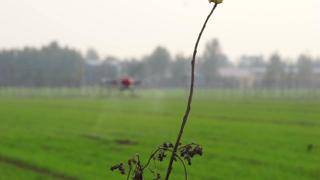UAV: (106, 78, 142, 92)
